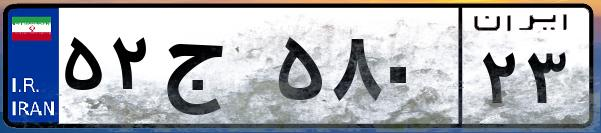0: (385, 28, 445, 110)
2: (475, 38, 525, 113), (110, 28, 158, 98)
3: (525, 38, 570, 115)
5: (270, 28, 330, 110), (57, 26, 110, 100)
8: (330, 28, 385, 110)
ج: (158, 20, 270, 120)
